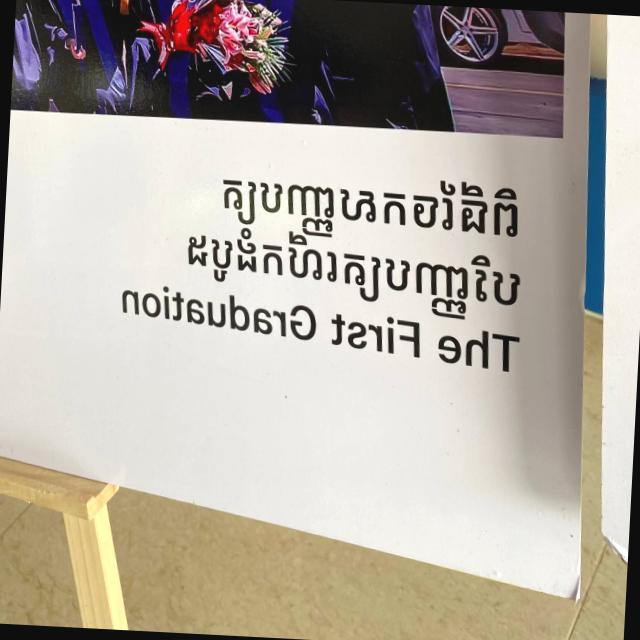Yolov11_80vkh: (178, 220, 525, 331), (215, 173, 526, 247)
